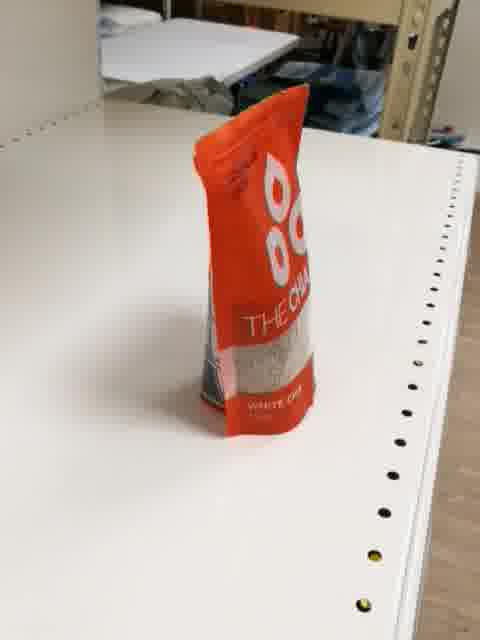whitechia: (190, 83, 323, 442)
